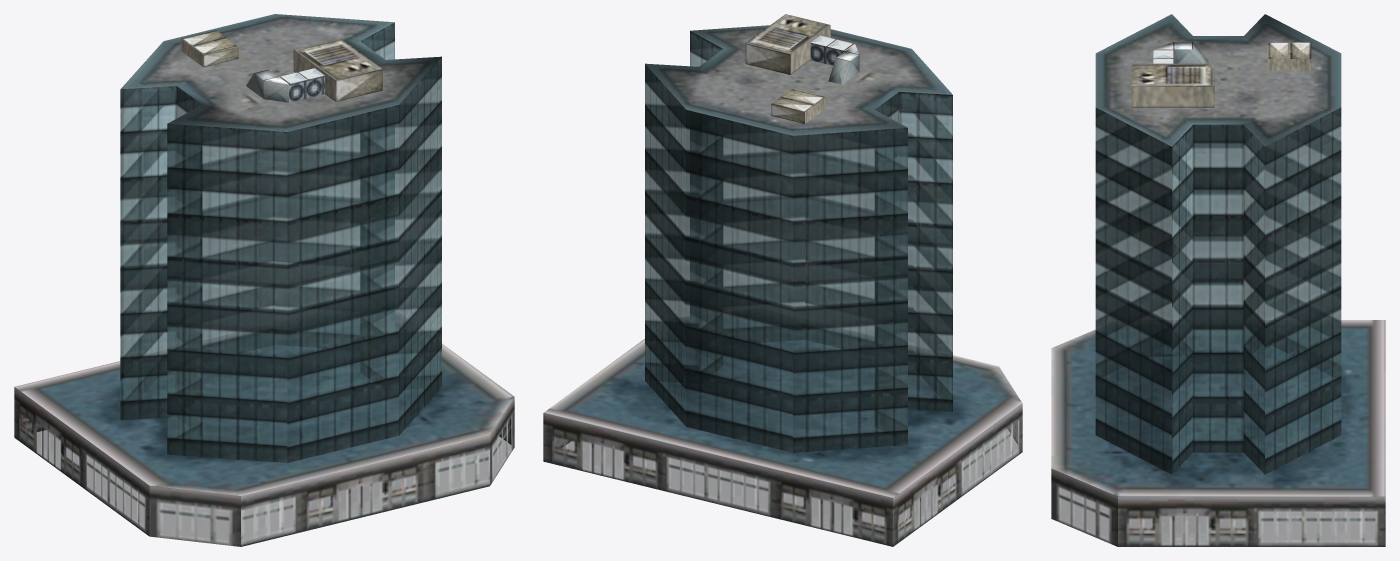
File: Civilian - Commercial Building - Asian Bank - Night - CBNBank_N.glb
3 renders of one model, left to right at view 1: azimuth 30°, elevation 25°; view 2: azimuth 150°, elevation 25°; view 3: azimuth 270°, elevation 25°, orthographic. The views are drawn at different scales.
Parts seen in each view (by area): view 1: CBNBANK_N; view 2: CBNBANK_N; view 3: CBNBANK_N.
Boxes of the visible parts, bbox=[...] form: CBNBANK_N: bbox=[14, 14, 514, 546]; CBNBANK_N: bbox=[543, 14, 1022, 546]; CBNBANK_N: bbox=[1051, 14, 1385, 546].
Bounding box in the file's own units: 100 × 106 × 80.
Materials: 1 (1 with a texture image).
